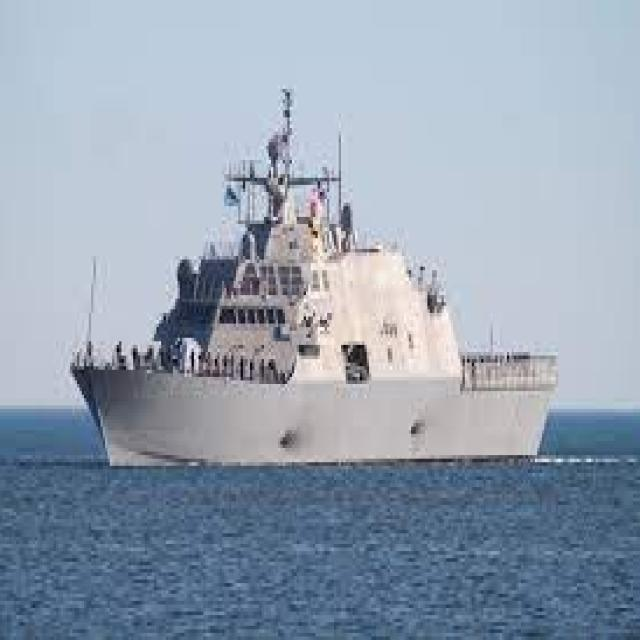navalvessels: (58, 110, 565, 480)
